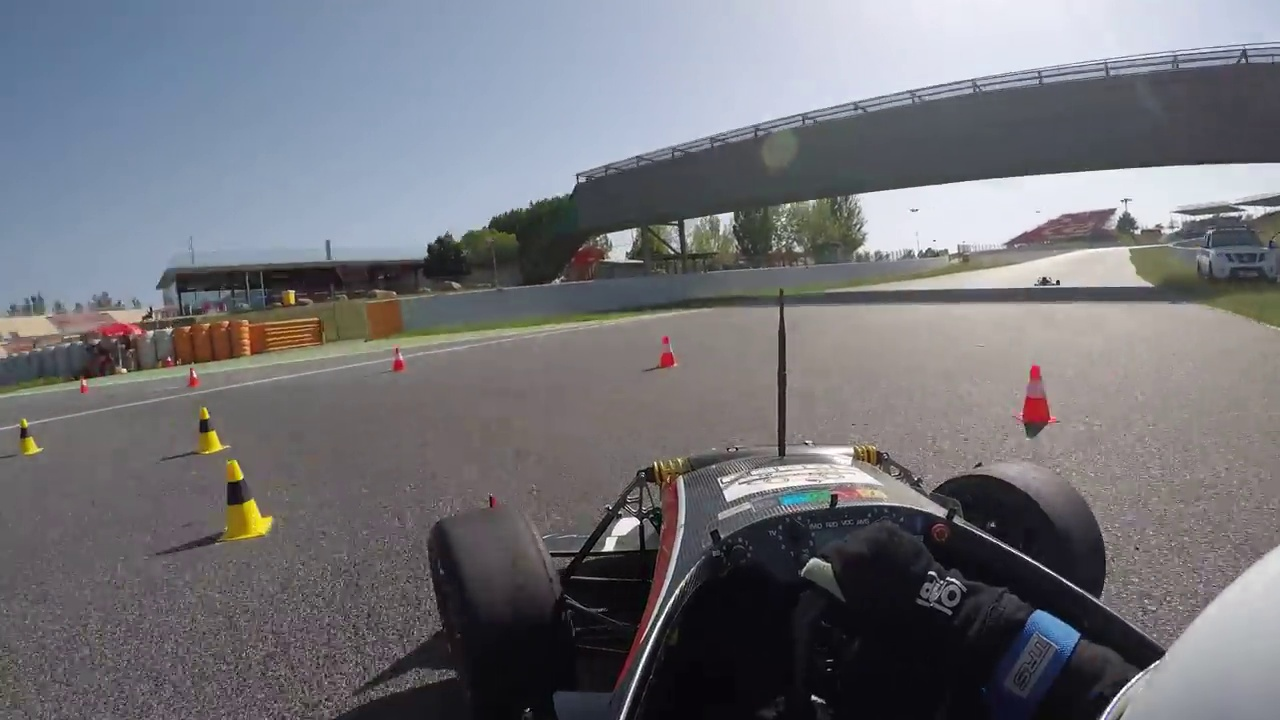Cone: (218, 457, 271, 543), (1018, 361, 1057, 429), (195, 404, 227, 457), (15, 416, 41, 457), (657, 332, 677, 367)
